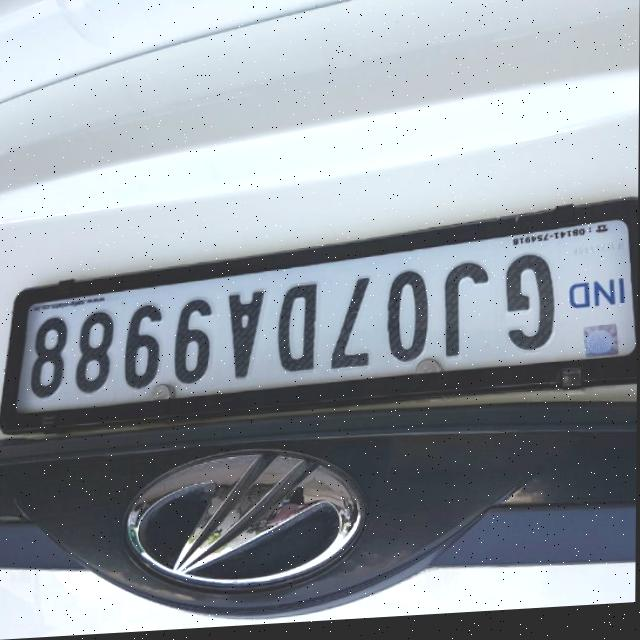plate: (0, 199, 639, 437)
